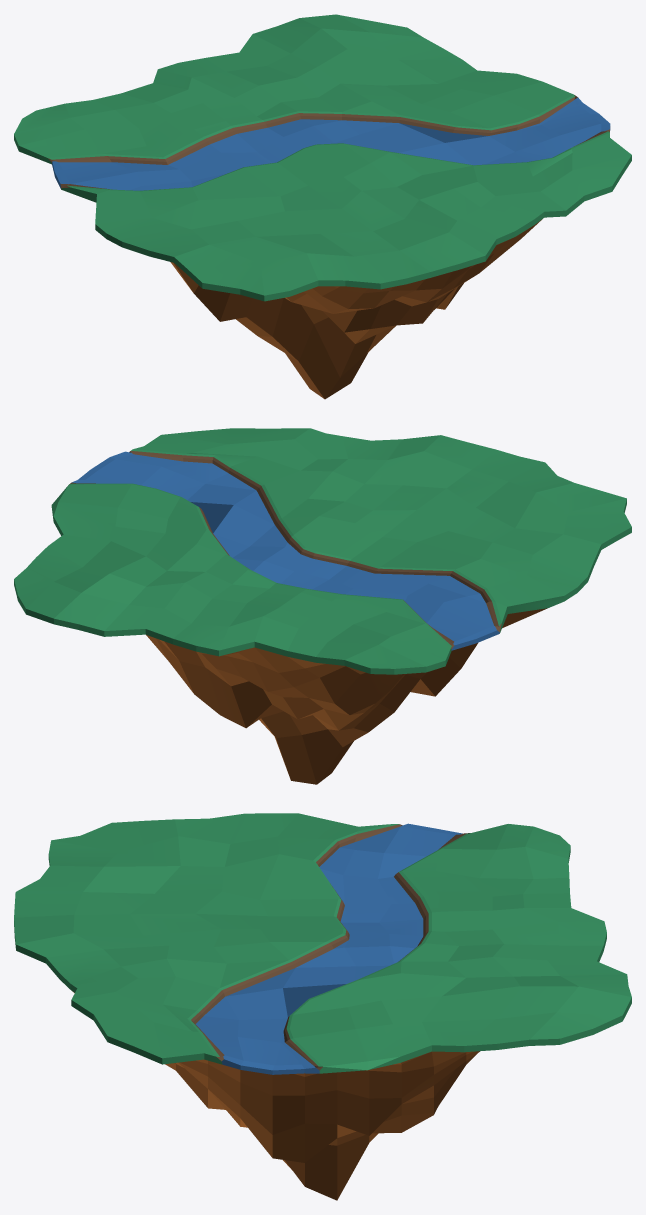
Rendered from land003.gltf.
The picture shows the model from 3 angles, top to bottom: view 1: azimuth 30°, elevation 25°; view 2: azimuth 150°, elevation 25°; view 3: azimuth 270°, elevation 25°; orthographic projection. The views are drawn at different scales.
Visible parts, largest first — view 1: node_land003_-79134; view 2: node_land003_-79134; view 3: node_land003_-79134.
Boxes of the visible parts, left/top/right/bottom form: node_land003_-79134: left=14, top=14, right=631, bottom=399; node_land003_-79134: left=14, top=428, right=631, bottom=784; node_land003_-79134: left=14, top=813, right=631, bottom=1200.
Size of the model in its own units: 24.03 by 11.62 by 24.5.
1 material, 1 textured.
